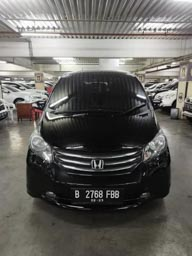plat: (74, 190, 123, 198)
